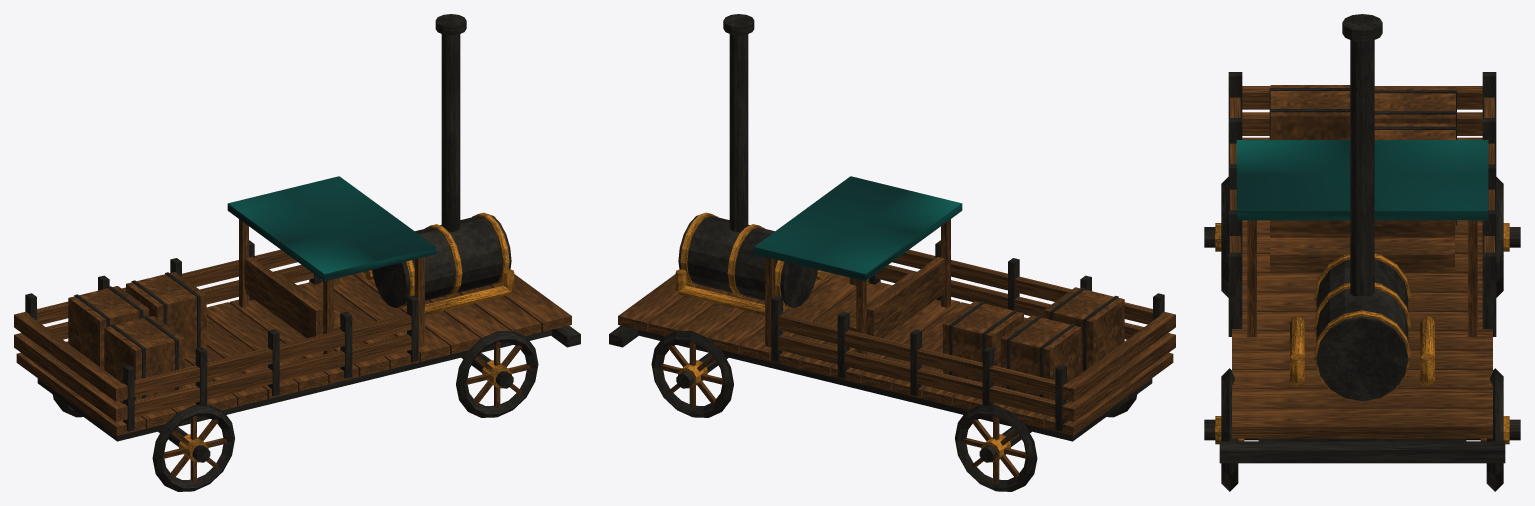
File: convoy-lead-hauler-start.glb
3 views of the same model, side by side, from view 1: azimuth 30°, elevation 25°; view 2: azimuth 150°, elevation 25°; view 3: azimuth 270°, elevation 25° (orthographic). The views are drawn at different scales.
Parts seen in each view (by area): view 1: convoy-lead-hauler-start; view 2: convoy-lead-hauler-start; view 3: convoy-lead-hauler-start.
Boxes of the visible parts, box(x1,y1,x2,y2) form: convoy-lead-hauler-start: box(14, 14, 580, 491); convoy-lead-hauler-start: box(609, 14, 1175, 491); convoy-lead-hauler-start: box(1204, 14, 1520, 491).
Size of the model in its own units: 8.62 by 6.4 by 3.93.
Materials: 1 (1 with a texture image).
